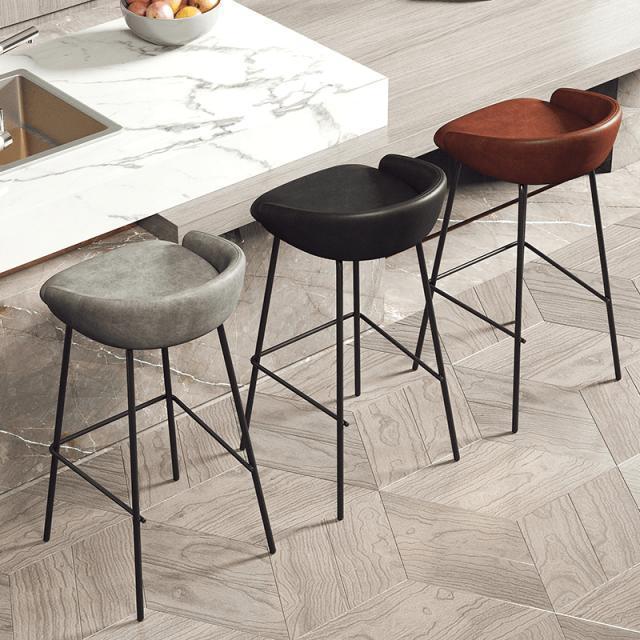chair: (34, 226, 276, 624), (237, 150, 461, 520), (408, 86, 622, 437), (49, 225, 248, 348), (243, 146, 448, 262), (434, 76, 624, 176)
